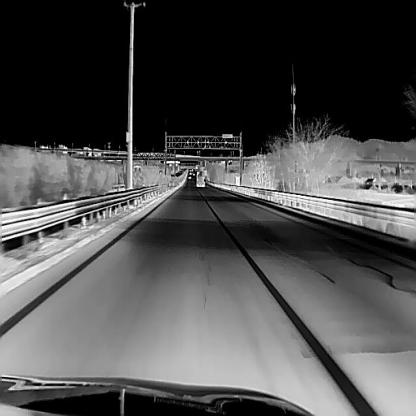truck: (195, 171, 205, 186)
